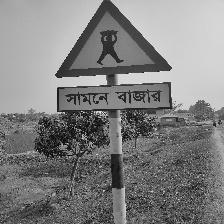Market-in-front: (54, 0, 173, 115)
